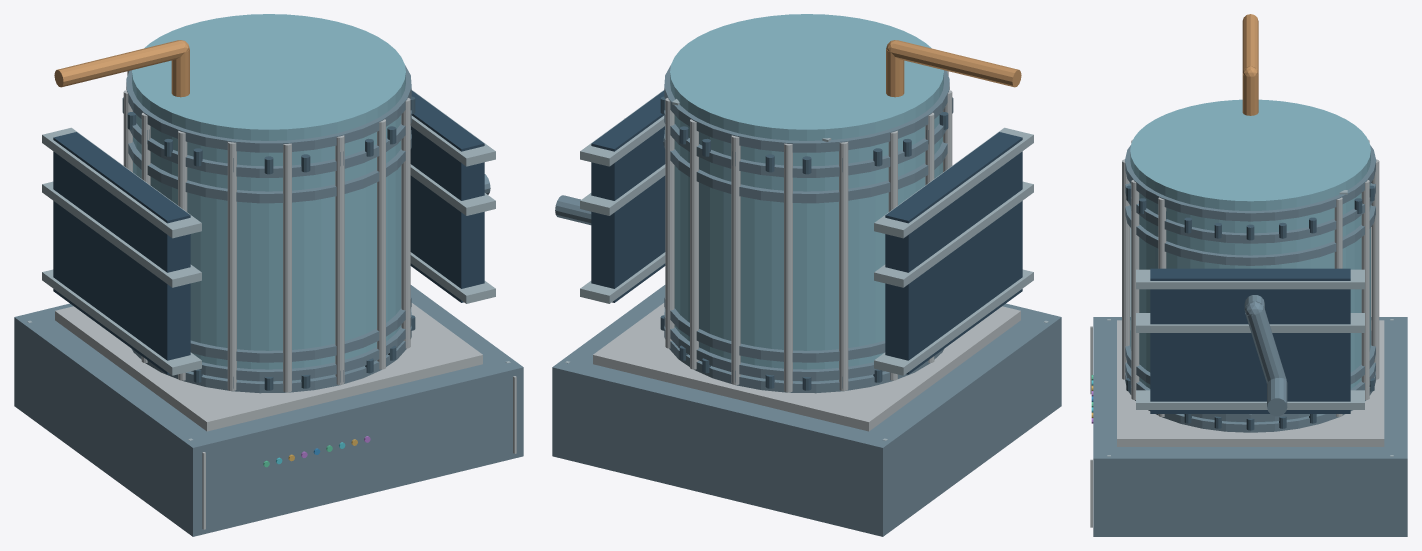
File: 01_L72_TransparentALDReactorChamber.glb
3 renders of one model, left to right at view 1: azimuth 30°, elevation 25°; view 2: azimuth 150°, elevation 25°; view 3: azimuth 270°, elevation 25°, orthographic. The views are drawn at different scales.
Visible parts, largest first — view 1: TransparentALDReactorChamber_Part_008, TransparentALDReactorChamber_Part_000, TransparentALDReactorChamber_Part_082, TransparentALDReactorChamber_Part_007, TransparentALDReactorChamber_Part_086, TransparentALDReactorChamber_Part_019, TransparentALDReactorChamber_Part_015, TransparentALDReactorChamber_Part_017, TransparentALDReactorChamber_Part_073, TransparentALDReactorChamber_Part_096, TransparentALDReactorChamber_Part_013, TransparentALDReactorChamber_Part_071 (+14 smaller); view 2: TransparentALDReactorChamber_Part_008, TransparentALDReactorChamber_Part_000, TransparentALDReactorChamber_Part_082, TransparentALDReactorChamber_Part_007, TransparentALDReactorChamber_Part_086, TransparentALDReactorChamber_Part_019, TransparentALDReactorChamber_Part_015, TransparentALDReactorChamber_Part_017, TransparentALDReactorChamber_Part_077, TransparentALDReactorChamber_Part_096, TransparentALDReactorChamber_Part_013, TransparentALDReactorChamber_Part_079 (+15 smaller); view 3: TransparentALDReactorChamber_Part_000, TransparentALDReactorChamber_Part_008, TransparentALDReactorChamber_Part_086, TransparentALDReactorChamber_Part_007, TransparentALDReactorChamber_Part_019, TransparentALDReactorChamber_Part_015, TransparentALDReactorChamber_Part_089, TransparentALDReactorChamber_Part_017, TransparentALDReactorChamber_Part_087, TransparentALDReactorChamber_Part_088, TransparentALDReactorChamber_Part_070, TransparentALDReactorChamber_Part_009 (+11 smaller).
Boxes of the visible parts, left/top/right/bottom form: TransparentALDReactorChamber_Part_008: left=132, top=14, right=405, bottom=381; TransparentALDReactorChamber_Part_000: left=14, top=285, right=523, bottom=536; TransparentALDReactorChamber_Part_082: left=53, top=132, right=190, bottom=374; TransparentALDReactorChamber_Part_007: left=55, top=303, right=482, bottom=431; TransparentALDReactorChamber_Part_086: left=410, top=90, right=484, bottom=302; TransparentALDReactorChamber_Part_019: left=126, top=65, right=411, bottom=152; TransparentALDReactorChamber_Part_015: left=128, top=126, right=411, bottom=203; TransparentALDReactorChamber_Part_017: left=129, top=110, right=411, bottom=177; TransparentALDReactorChamber_Part_073: left=227, top=141, right=236, bottom=390; TransparentALDReactorChamber_Part_096: left=54, top=40, right=185, bottom=87; TransparentALDReactorChamber_Part_013: left=190, top=285, right=411, bottom=362; TransparentALDReactorChamber_Part_071: left=335, top=135, right=344, bottom=384; TransparentALDReactorChamber_Part_008: left=670, top=14, right=943, bottom=381; TransparentALDReactorChamber_Part_000: left=552, top=285, right=1061, bottom=536; TransparentALDReactorChamber_Part_082: left=885, top=132, right=1022, bottom=374; TransparentALDReactorChamber_Part_007: left=593, top=303, right=1020, bottom=431; TransparentALDReactorChamber_Part_086: left=591, top=90, right=665, bottom=302; TransparentALDReactorChamber_Part_019: left=664, top=65, right=949, bottom=152; TransparentALDReactorChamber_Part_015: left=664, top=126, right=947, bottom=203; TransparentALDReactorChamber_Part_017: left=664, top=110, right=946, bottom=177; TransparentALDReactorChamber_Part_077: left=839, top=141, right=848, bottom=390; TransparentALDReactorChamber_Part_096: left=890, top=40, right=1021, bottom=87; TransparentALDReactorChamber_Part_013: left=664, top=285, right=885, bottom=362; TransparentALDReactorChamber_Part_079: left=731, top=135, right=740, bottom=384; TransparentALDReactorChamber_Part_000: left=1093, top=317, right=1407, bottom=536; TransparentALDReactorChamber_Part_008: left=1130, top=99, right=1370, bottom=422; TransparentALDReactorChamber_Part_086: left=1150, top=268, right=1350, bottom=413; TransparentALDReactorChamber_Part_007: left=1117, top=320, right=1384, bottom=446; TransparentALDReactorChamber_Part_019: left=1125, top=145, right=1376, bottom=221; TransparentALDReactorChamber_Part_015: left=1125, top=205, right=1375, bottom=265; TransparentALDReactorChamber_Part_089: left=1136, top=269, right=1364, bottom=289; TransparentALDReactorChamber_Part_017: left=1125, top=183, right=1375, bottom=243; TransparentALDReactorChamber_Part_087: left=1136, top=390, right=1364, bottom=409; TransparentALDReactorChamber_Part_088: left=1136, top=313, right=1364, bottom=332; TransparentALDReactorChamber_Part_070: left=1131, top=180, right=1139, bottom=399; TransparentALDReactorChamber_Part_009: left=1125, top=373, right=1375, bottom=432.
Size of the model in its own units: 4.2 by 3.75 by 2.98.
